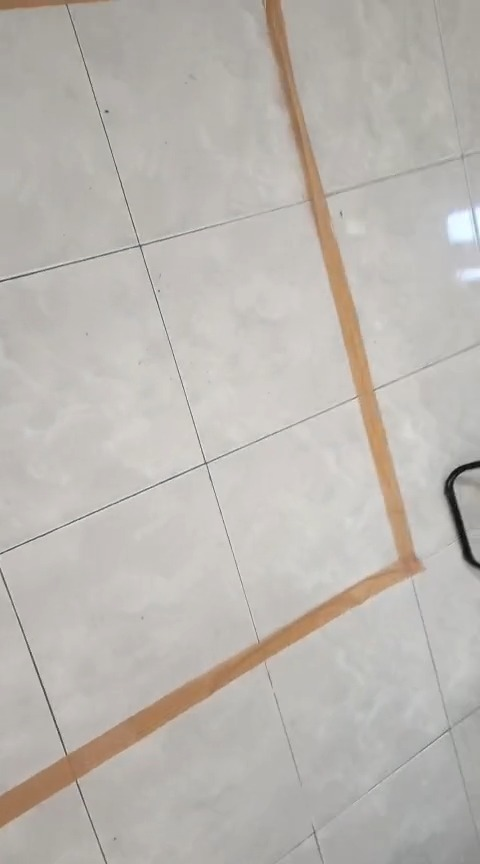floor marking: (0, 0, 422, 827), (0, 0, 62, 9)
